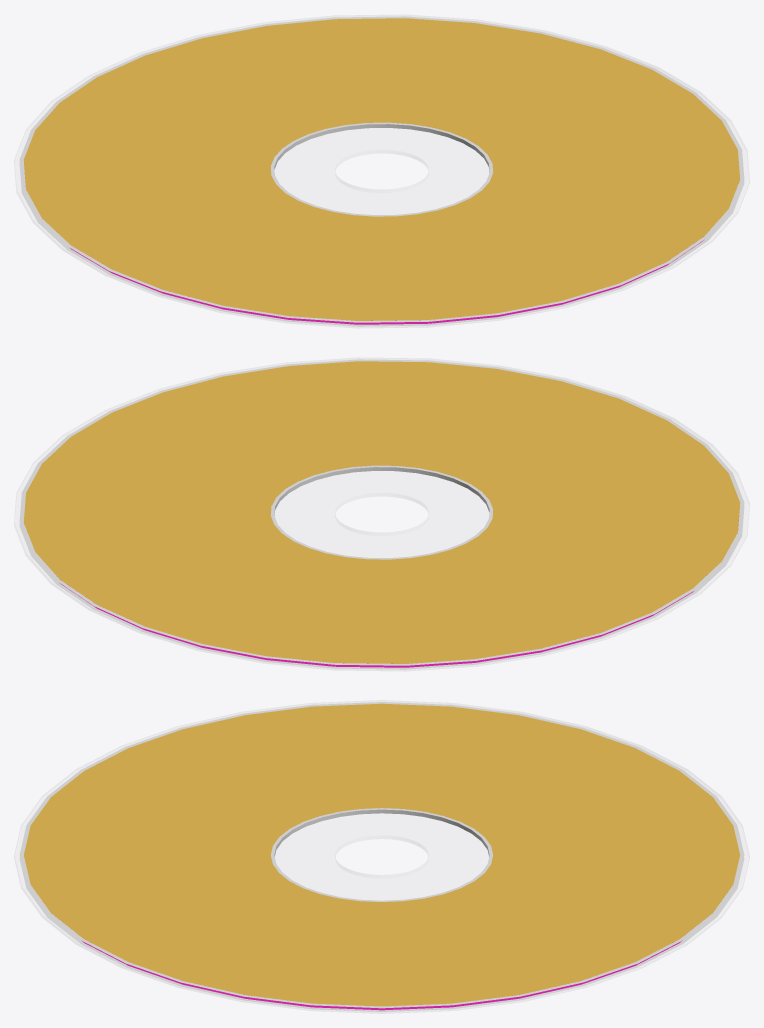
3 views of the same model, one above another, from view 1: azimuth 30°, elevation 25°; view 2: azimuth 150°, elevation 25°; view 3: azimuth 270°, elevation 25° (orthographic).
Parts seen in each view (by area): view 1: SM_Disk1; view 2: SM_Disk1; view 3: SM_Disk1.
Boxes of the visible parts, box(x1,y1,x2,y2) form: SM_Disk1: box(14, 15, 749, 327); SM_Disk1: box(14, 358, 749, 670); SM_Disk1: box(14, 700, 749, 1013).
Size of what is drawn, in the model's own units: 0.1301 by 0.000739 by 0.1301.
